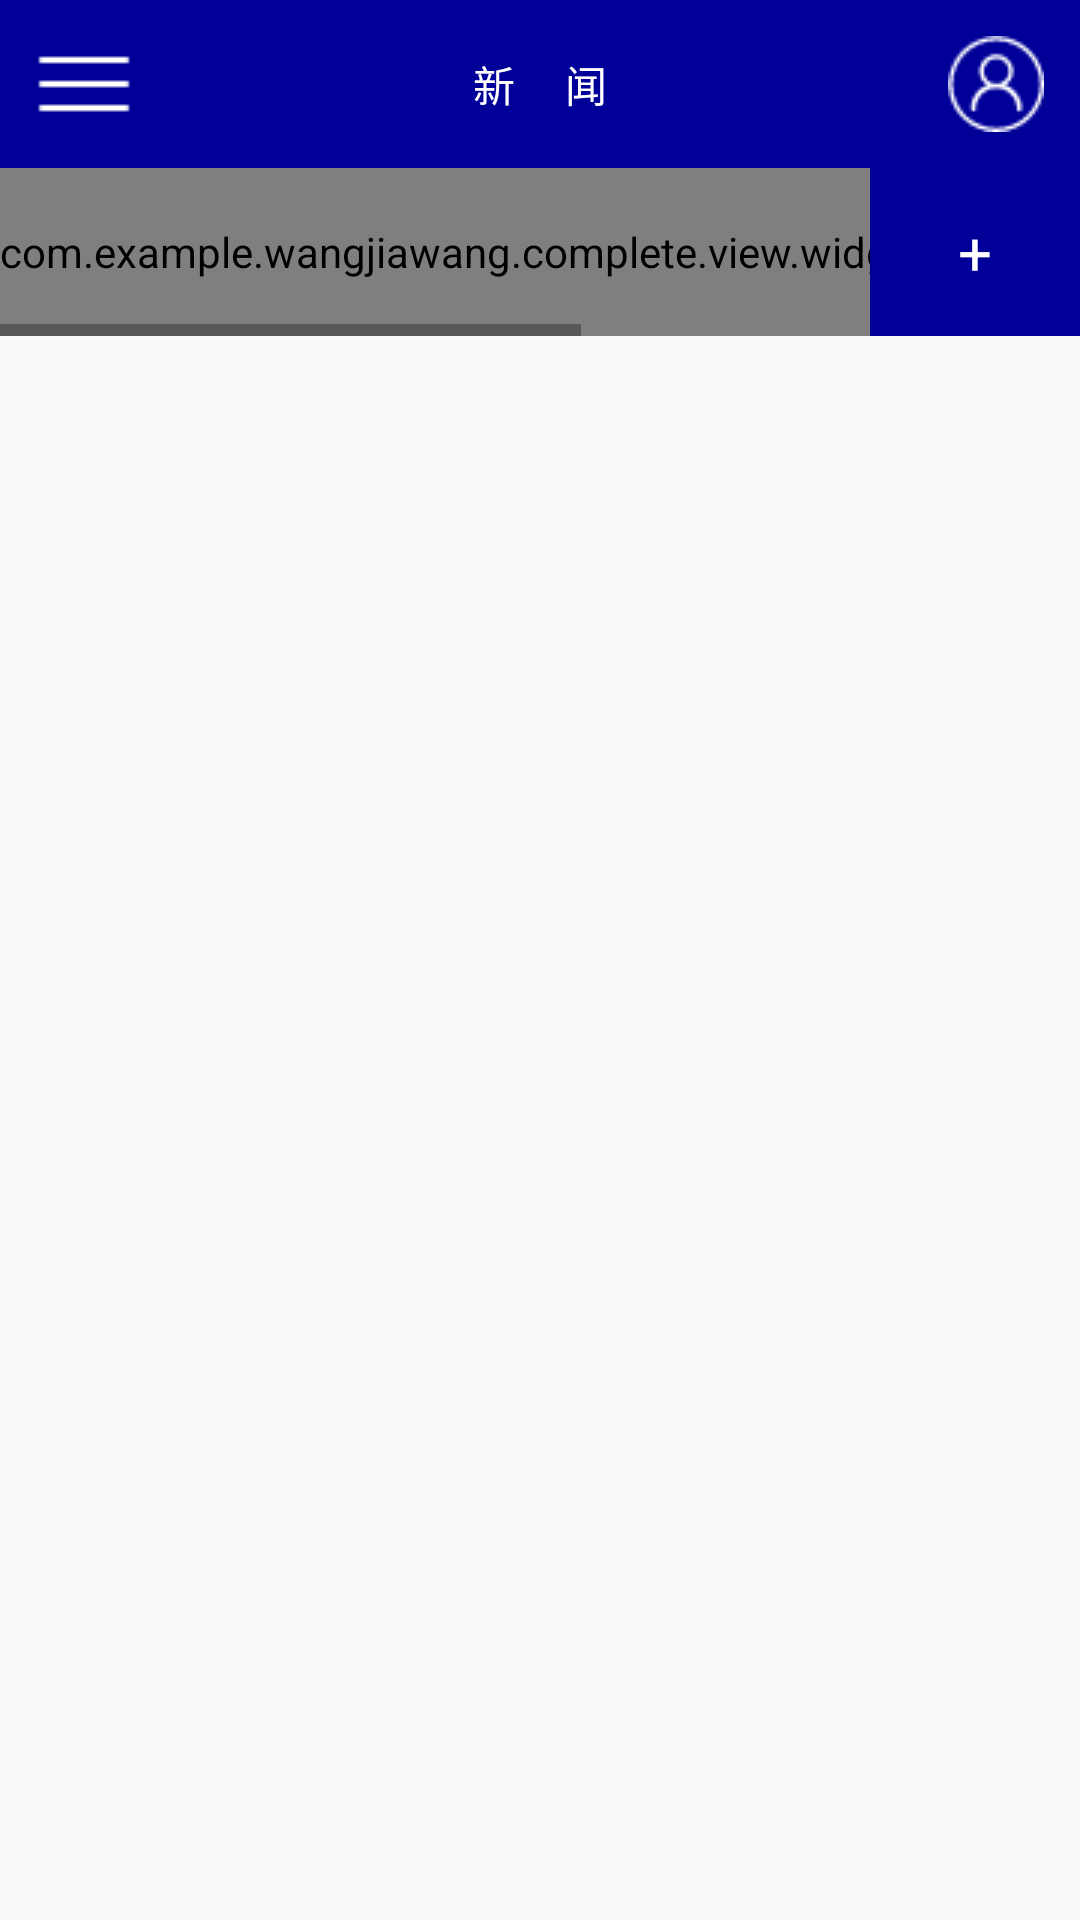

Icons on this 1080px x 1920px Android screen, each with its box as (x1, y1, x2, y2):
person: (948, 36, 1044, 132)
